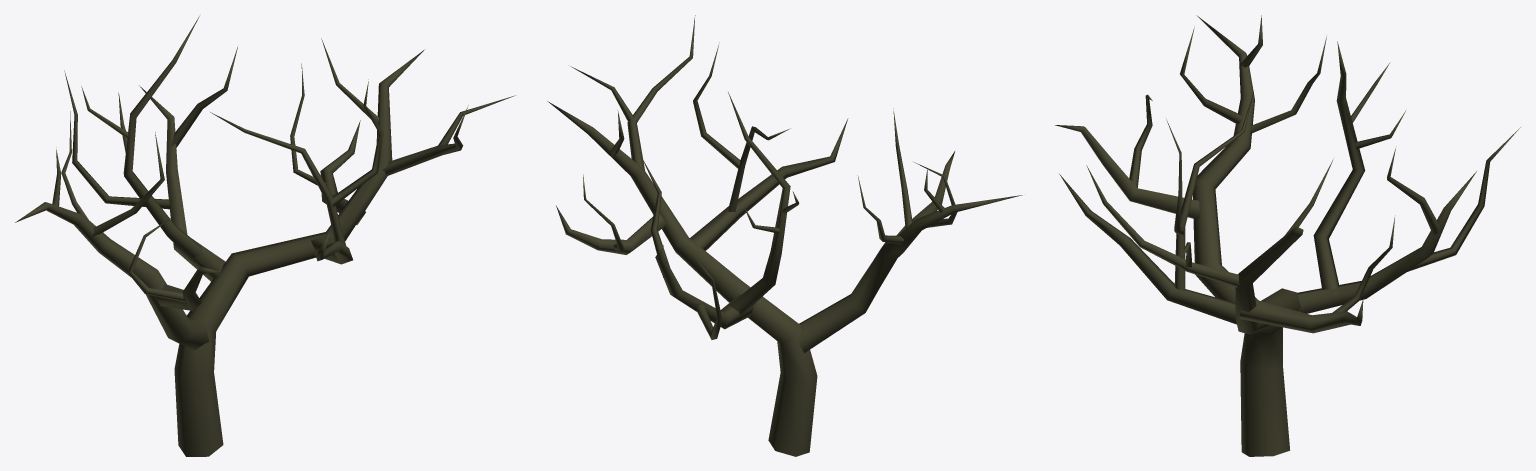
Rendered from SM_DesertTwigRoots01.fbx.
3 views of the same model, side by side, from view 1: azimuth 30°, elevation 25°; view 2: azimuth 150°, elevation 25°; view 3: azimuth 270°, elevation 25° (orthographic). The views are drawn at different scales.
Visible parts, largest first — view 1: SM_DesertTwigRoots01; view 2: SM_DesertTwigRoots01; view 3: SM_DesertTwigRoots01.
Part boxes in pixels (x1,y1,x2,y2): SM_DesertTwigRoots01: (15, 16, 515, 456); SM_DesertTwigRoots01: (547, 15, 1022, 456); SM_DesertTwigRoots01: (1055, 15, 1520, 456).
Bounding box in the file's own units: 183 × 142 × 139.
